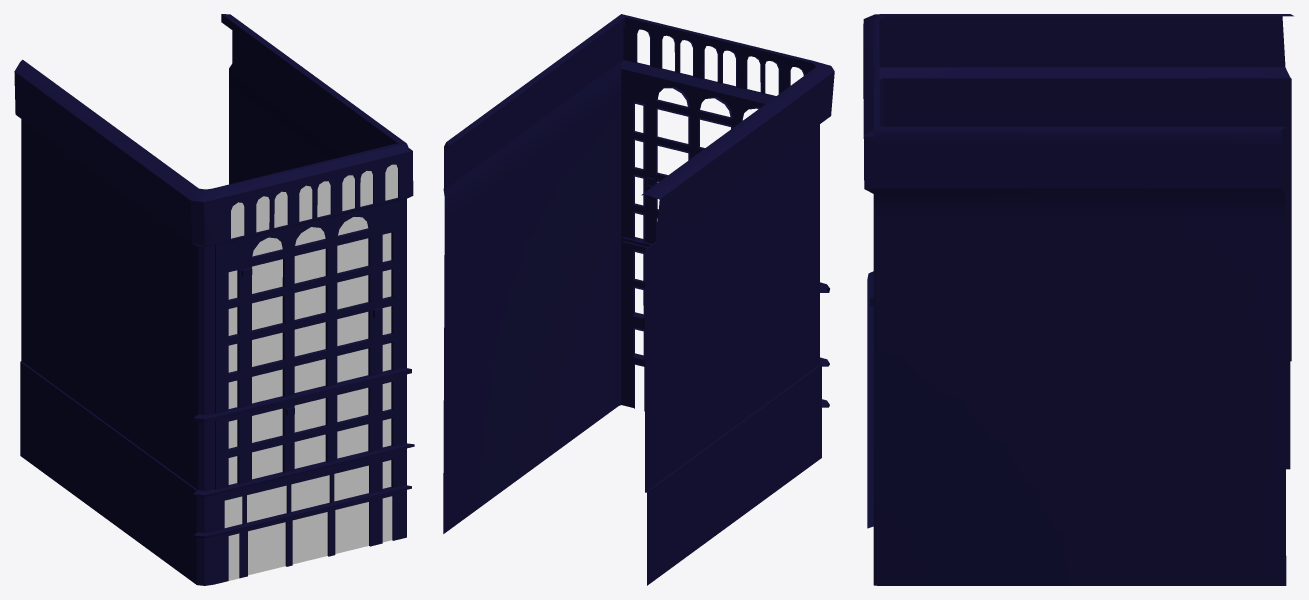
Rendered from building_05.gltf.
3 renders of one model, left to right at view 1: azimuth 30°, elevation 25°; view 2: azimuth 150°, elevation 25°; view 3: azimuth 270°, elevation 25°, orthographic. The views are drawn at different scales.
Parts seen in each view (by area): view 1: building_05; view 2: building_05; view 3: building_05.
Part boxes in pixels (<box>): building_05: <box>14,14,414,585</box>; building_05: <box>443,14,834,585</box>; building_05: <box>863,14,1293,585</box>.
Size of the model in its own units: 1.79 by 3.07 by 2.63.
